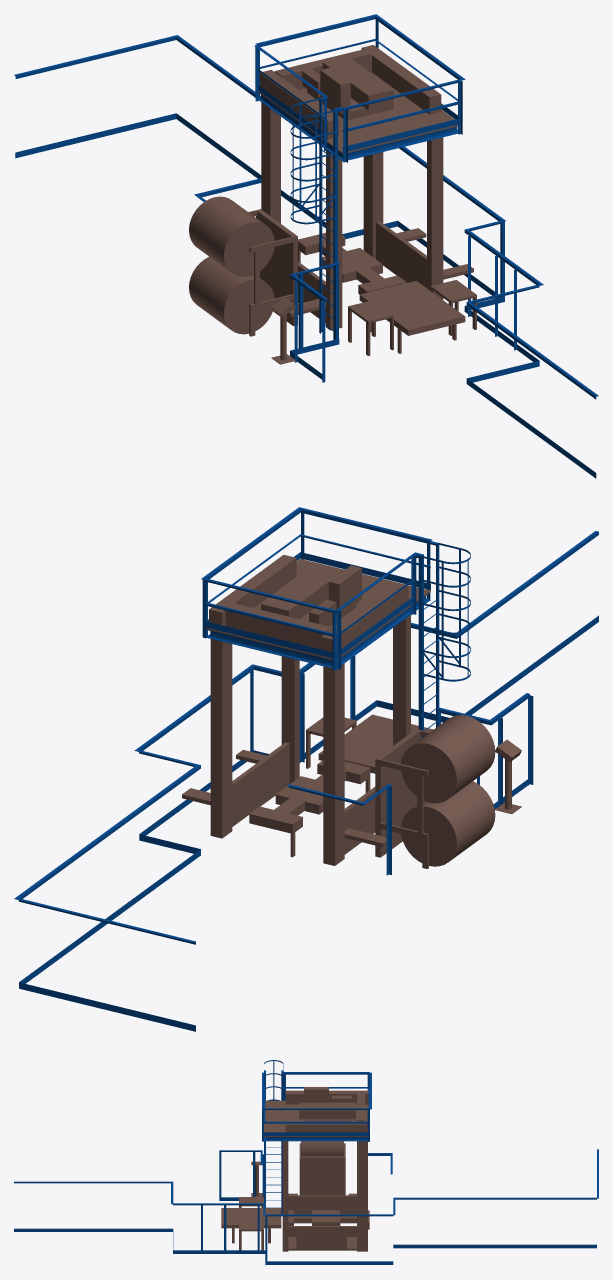
The model's file is GCC-AAV-13220-30.nwd(50).fbx.
3 renders of one model, top to bottom at view 1: azimuth 30°, elevation 25°; view 2: azimuth 150°, elevation 25°; view 3: azimuth 270°, elevation 25°, orthographic. The views are drawn at different scales.
Parts seen in each view (by area): view 1: CYLINDER 1 of SUBEQUIPMENT 40 of EQUIPMENT /721-U-101, GENSEC 28 of TMPLATE 1 of SUBEQUIPMENT 13 of EQUIPMENT /721-, CYLINDER 2 of SUBEQUIPMENT 40 of EQUIPMENT /721-U-101, GENSEC 29 of TMPLATE 1 of SUBEQUIPMENT 13 of EQUIPMENT /721-, BOX 1 of SUBEQUIPMENT 40 of EQUIPMENT /721-U-101, PANEL 1 of TMPLATE 1 of SUBEQUIPMENT 15 of EQUIPMENT /721-U-, BOX 28 of SUBEQUIPMENT 40 of EQUIPMENT /721-U-101, BOX 29 of SUBEQUIPMENT 40 of EQUIPMENT /721-U-101, BOX 44 of SUBEQUIPMENT 40 of EQUIPMENT /721-U-101, BOX 30 of SUBEQUIPMENT 40 of EQUIPMENT /721-U-101, BOX 38 of SUBEQUIPMENT 40 of EQUIPMENT /721-U-101, BOX 31 of SUBEQUIPMENT 40 of EQUIPMENT /721-U-101 (+14 smaller); view 2: CYLINDER 1 of SUBEQUIPMENT 40 of EQUIPMENT /721-U-101, GENSEC 28 of TMPLATE 1 of SUBEQUIPMENT 13 of EQUIPMENT /721-, CYLINDER 2 of SUBEQUIPMENT 40 of EQUIPMENT /721-U-101, BOX 27 of SUBEQUIPMENT 40 of EQUIPMENT /721-U-101, GENSEC 29 of TMPLATE 1 of SUBEQUIPMENT 13 of EQUIPMENT /721-, BOX 29 of SUBEQUIPMENT 40 of EQUIPMENT /721-U-101, BOX 44 of SUBEQUIPMENT 40 of EQUIPMENT /721-U-101, BOX 38 of SUBEQUIPMENT 40 of EQUIPMENT /721-U-101, BOX 33 of SUBEQUIPMENT 40 of EQUIPMENT /721-U-101, BOX 30 of SUBEQUIPMENT 40 of EQUIPMENT /721-U-101, BOX 1 of SUBEQUIPMENT 40 of EQUIPMENT /721-U-101, BOX 31 of SUBEQUIPMENT 40 of EQUIPMENT /721-U-101 (+14 smaller); view 3: GENSEC 28 of TMPLATE 1 of SUBEQUIPMENT 13 of EQUIPMENT /721-, GENSEC 29 of TMPLATE 1 of SUBEQUIPMENT 13 of EQUIPMENT /721-, BOX 44 of SUBEQUIPMENT 40 of EQUIPMENT /721-U-101, BOX 38 of SUBEQUIPMENT 40 of EQUIPMENT /721-U-101, BOX 39 of SUBEQUIPMENT 40 of EQUIPMENT /721-U-101, BOX 27 of SUBEQUIPMENT 40 of EQUIPMENT /721-U-101, PANEL 1 of TMPLATE 1 of SUBEQUIPMENT 15 of EQUIPMENT /721-U-, BOX 1 of SUBEQUIPMENT 40 of EQUIPMENT /721-U-101, BOX 35 of SUBEQUIPMENT 40 of EQUIPMENT /721-U-101, BOX 31 of SUBEQUIPMENT 40 of EQUIPMENT /721-U-101, BOX 28 of SUBEQUIPMENT 40 of EQUIPMENT /721-U-101, CYLINDER 1 of SUBEQUIPMENT 40 of EQUIPMENT /721-U-101 (+7 smaller).
Part boxes in pixels (x1=…): CYLINDER 1 of SUBEQUIPMENT 40 of EQUIPMENT /721-U-101: x1=189, y1=196, x2=274, y2=276; GENSEC 28 of TMPLATE 1 of SUBEQUIPMENT 13 of EQUIPMENT /721-: x1=15, y1=113, x2=596, y2=478; CYLINDER 2 of SUBEQUIPMENT 40 of EQUIPMENT /721-U-101: x1=189, y1=256, x2=274, y2=334; GENSEC 29 of TMPLATE 1 of SUBEQUIPMENT 13 of EQUIPMENT /721-: x1=14, y1=35, x2=598, y2=399; BOX 1 of SUBEQUIPMENT 40 of EQUIPMENT /721-U-101: x1=359, y1=280, x2=465, y2=335; PANEL 1 of TMPLATE 1 of SUBEQUIPMENT 15 of EQUIPMENT /721-U-: x1=258, y1=72, x2=457, y2=153; BOX 28 of SUBEQUIPMENT 40 of EQUIPMENT /721-U-101: x1=427, y1=137, x2=443, y2=299; BOX 29 of SUBEQUIPMENT 40 of EQUIPMENT /721-U-101: x1=261, y1=102, x2=280, y2=223; BOX 44 of SUBEQUIPMENT 40 of EQUIPMENT /721-U-101: x1=256, y1=209, x2=297, y2=326; BOX 30 of SUBEQUIPMENT 40 of EQUIPMENT /721-U-101: x1=326, y1=150, x2=342, y2=330; BOX 38 of SUBEQUIPMENT 40 of EQUIPMENT /721-U-101: x1=376, y1=221, x2=426, y2=287; BOX 31 of SUBEQUIPMENT 40 of EQUIPMENT /721-U-101: x1=361, y1=45, x2=441, y2=114; CYLINDER 1 of SUBEQUIPMENT 40 of EQUIPMENT /721-U-101: x1=401, y1=715, x2=495, y2=803; GENSEC 28 of TMPLATE 1 of SUBEQUIPMENT 13 of EQUIPMENT /721-: x1=19, y1=615, x2=598, y2=1031; CYLINDER 2 of SUBEQUIPMENT 40 of EQUIPMENT /721-U-101: x1=401, y1=781, x2=495, y2=866; BOX 27 of SUBEQUIPMENT 40 of EQUIPMENT /721-U-101: x1=210, y1=639, x2=232, y2=838; GENSEC 29 of TMPLATE 1 of SUBEQUIPMENT 13 of EQUIPMENT /721-: x1=14, y1=531, x2=598, y2=944; BOX 29 of SUBEQUIPMENT 40 of EQUIPMENT /721-U-101: x1=323, y1=663, x2=344, y2=865; BOX 44 of SUBEQUIPMENT 40 of EQUIPMENT /721-U-101: x1=375, y1=729, x2=421, y2=857; BOX 38 of SUBEQUIPMENT 40 of EQUIPMENT /721-U-101: x1=232, y1=742, x2=289, y2=826; BOX 33 of SUBEQUIPMENT 40 of EQUIPMENT /721-U-101: x1=225, y1=603, x2=332, y2=649; BOX 30 of SUBEQUIPMENT 40 of EQUIPMENT /721-U-101: x1=393, y1=615, x2=410, y2=745; BOX 1 of SUBEQUIPMENT 40 of EQUIPMENT /721-U-101: x1=318, y1=714, x2=433, y2=773; BOX 31 of SUBEQUIPMENT 40 of EQUIPMENT /721-U-101: x1=209, y1=554, x2=296, y2=625; GENSEC 28 of TMPLATE 1 of SUBEQUIPMENT 13 of EQUIPMENT /721-: x1=14, y1=1228, x2=596, y2=1264; GENSEC 29 of TMPLATE 1 of SUBEQUIPMENT 13 of EQUIPMENT /721-: x1=14, y1=1149, x2=598, y2=1216; BOX 44 of SUBEQUIPMENT 40 of EQUIPMENT /721-U-101: x1=299, y1=1156, x2=345, y2=1195; BOX 38 of SUBEQUIPMENT 40 of EQUIPMENT /721-U-101: x1=288, y1=1226, x2=356, y2=1250; BOX 39 of SUBEQUIPMENT 40 of EQUIPMENT /721-U-101: x1=288, y1=1195, x2=356, y2=1214; BOX 27 of SUBEQUIPMENT 40 of EQUIPMENT /721-U-101: x1=357, y1=1141, x2=367, y2=1251; PANEL 1 of TMPLATE 1 of SUBEQUIPMENT 15 of EQUIPMENT /721-U-: x1=264, y1=1100, x2=369, y2=1136; BOX 1 of SUBEQUIPMENT 40 of EQUIPMENT /721-U-101: x1=221, y1=1208, x2=281, y2=1228; BOX 35 of SUBEQUIPMENT 40 of EQUIPMENT /721-U-101: x1=299, y1=1102, x2=355, y2=1119; BOX 31 of SUBEQUIPMENT 40 of EQUIPMENT /721-U-101: x1=285, y1=1121, x2=367, y2=1132; BOX 28 of SUBEQUIPMENT 40 of EQUIPMENT /721-U-101: x1=282, y1=1141, x2=288, y2=1251; CYLINDER 1 of SUBEQUIPMENT 40 of EQUIPMENT /721-U-101: x1=301, y1=1141, x2=343, y2=1156.
Bounding box in the file's own units: 253 × 225 × 826.
